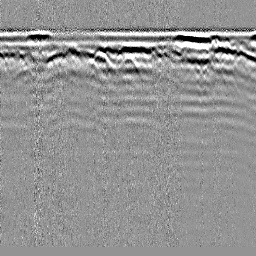cavity: (117, 52, 140, 70)
